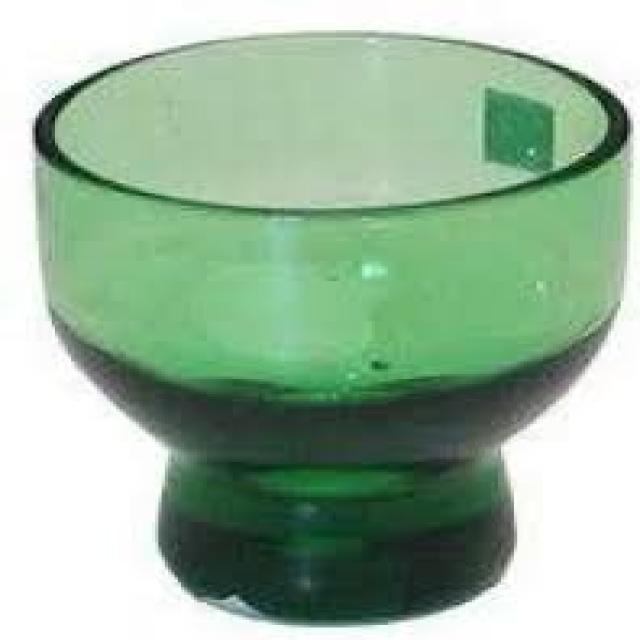glass: (32, 28, 627, 623)
